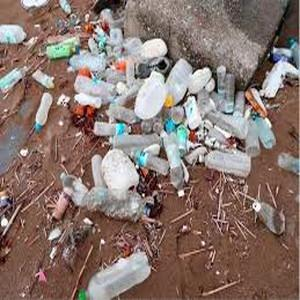Plastic: (77, 247, 150, 300), (87, 189, 155, 219), (194, 148, 252, 181), (252, 197, 288, 238), (59, 169, 88, 206), (133, 151, 171, 177), (33, 90, 54, 134), (0, 64, 29, 94), (93, 120, 132, 138)
